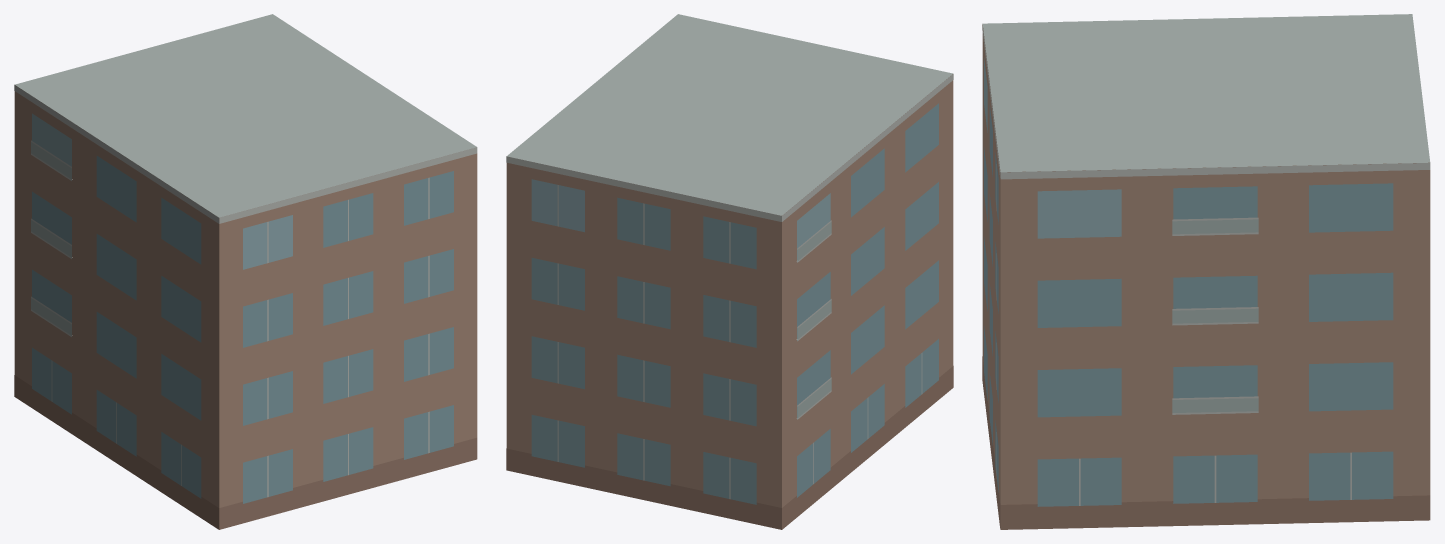
Rendered from survey-upis-32869693.glb.
3 renders of one model, left to right at view 1: azimuth 30°, elevation 25°; view 2: azimuth 150°, elevation 25°; view 3: azimuth 270°, elevation 25°, orthographic. The views are drawn at different scales.
Parts seen in each view (by area): view 1: survey-upis-32869693.tmp; view 2: survey-upis-32869693.tmp; view 3: survey-upis-32869693.tmp.
Boxes of the visible parts, <box> form: survey-upis-32869693.tmp: <box>14,14,477,529</box>; survey-upis-32869693.tmp: <box>506,14,953,529</box>; survey-upis-32869693.tmp: <box>982,14,1430,529</box>.
Bounding box in the file's own units: 11.59 × 12.2 × 13.85.
